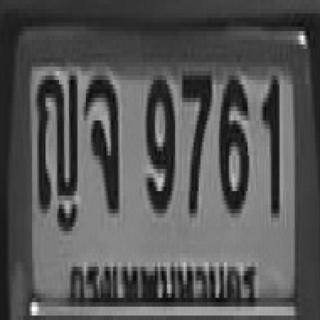A08: (83, 71, 118, 209)
A13: (35, 69, 76, 207)
N01: (261, 71, 278, 213)
N06: (217, 71, 248, 209)
N07: (180, 69, 210, 211)
N09: (145, 71, 174, 209)
P04: (68, 248, 262, 312)
